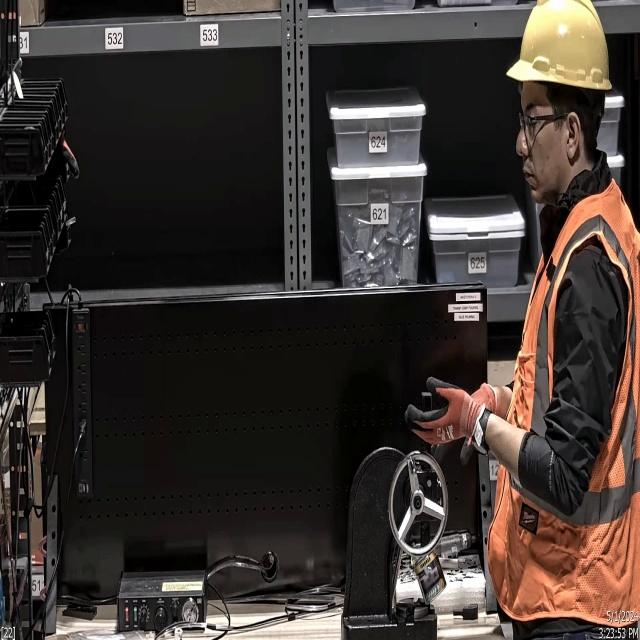construction-gloves: (398, 371, 502, 466)
